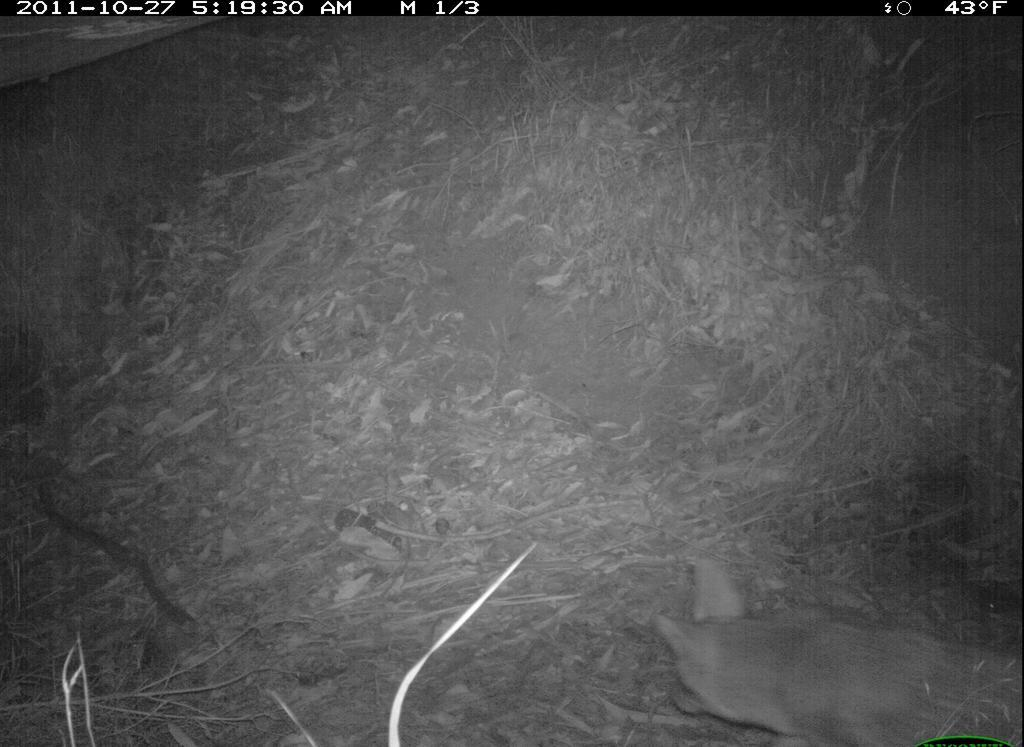coyote: (646, 559, 1016, 743)
